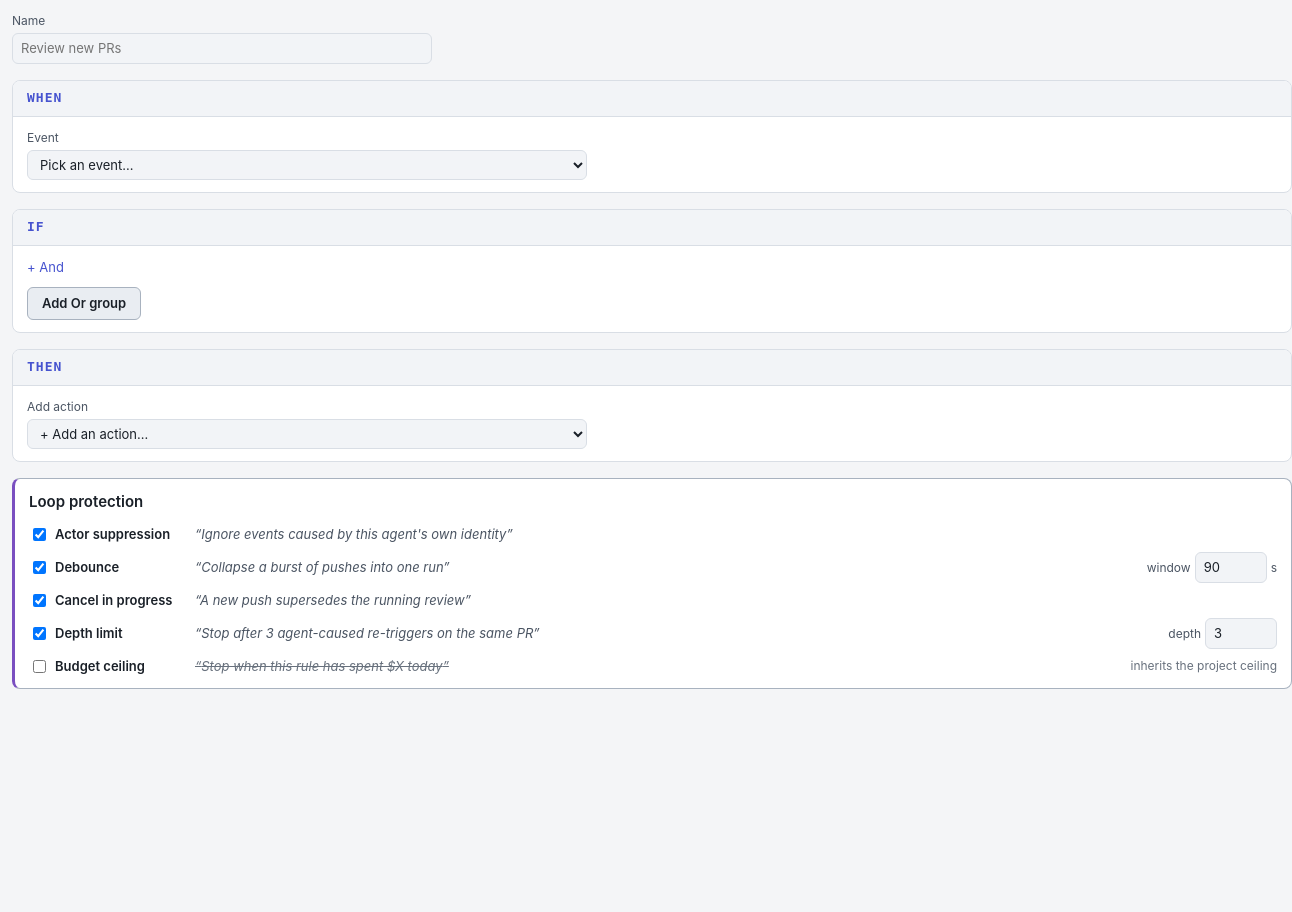
Test: catalog-driven editor › renders the novel event's filters from FilterFields
Select "Storm warning" in the dropdown labelled "Event" at (307, 166), box [27,150,587,180]
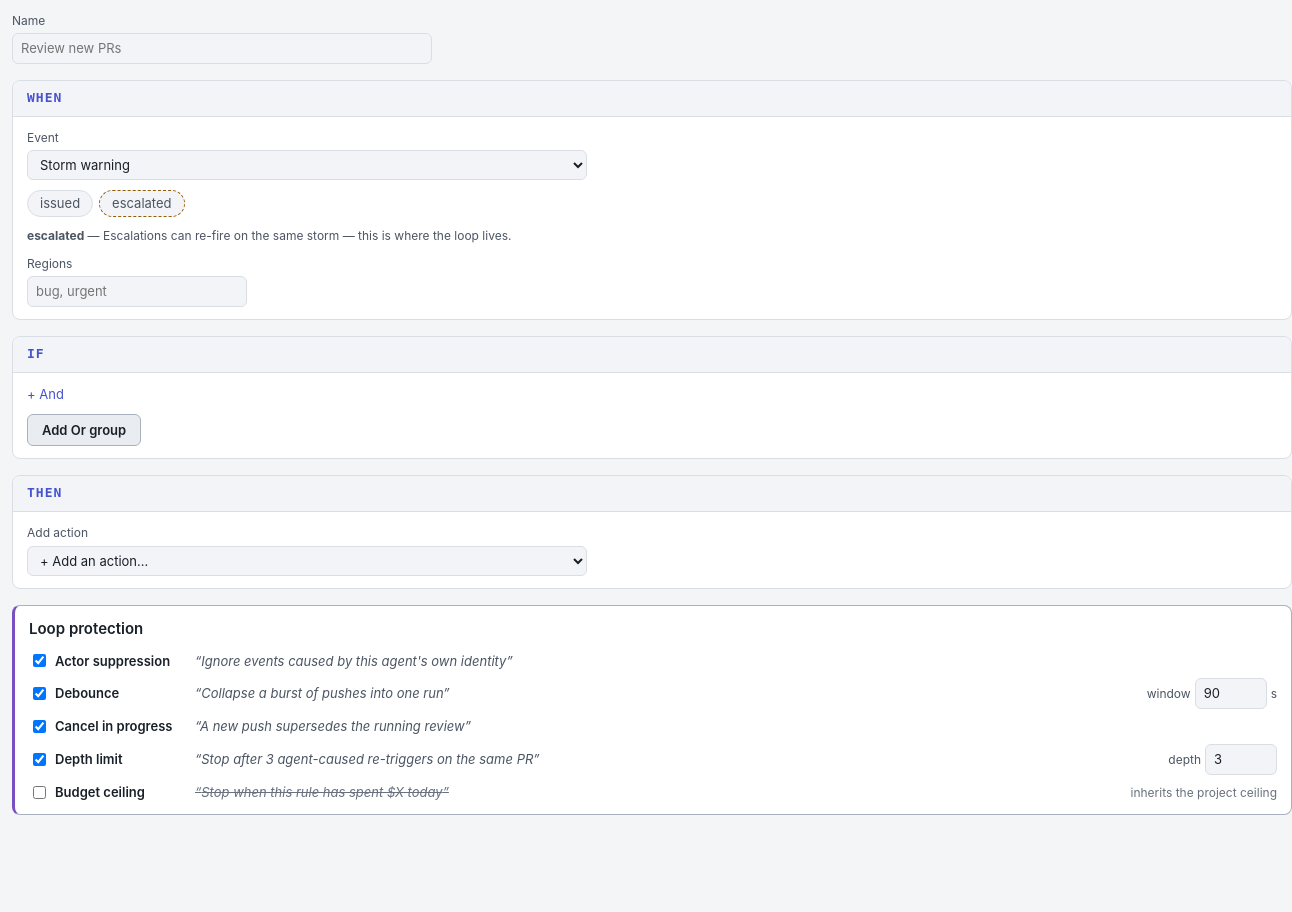
Now the field named "Regions filter" is shown, box [27,276,247,307]
